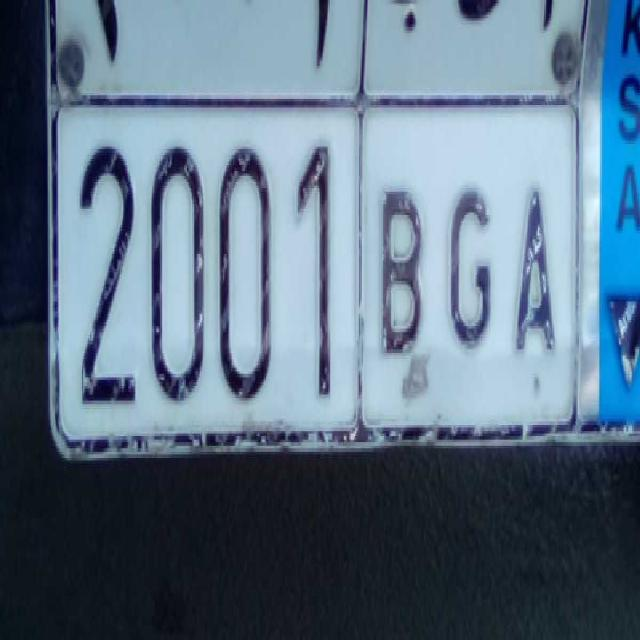license_plate: (59, 94, 572, 434)
